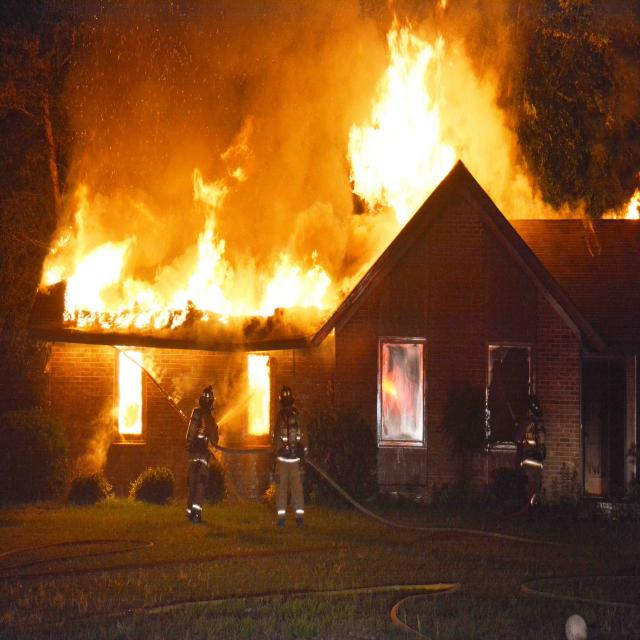Fire: (49, 210, 335, 316), (346, 25, 454, 221), (117, 344, 143, 440), (246, 353, 272, 433)
Smoke: (62, 0, 640, 238)
